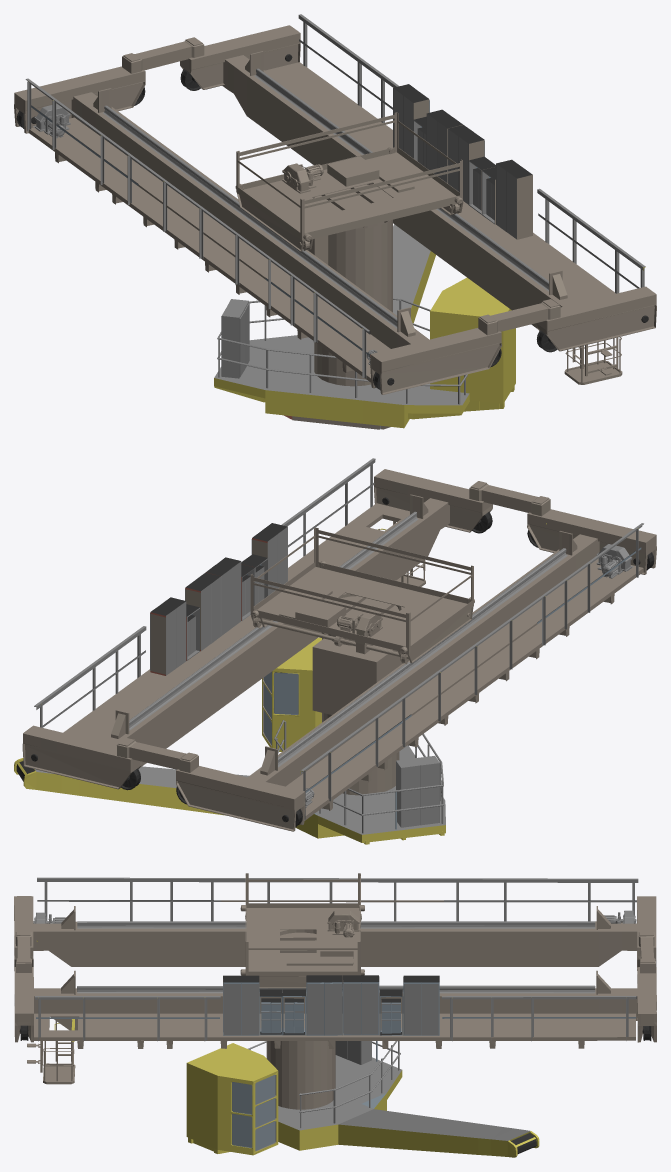
Rendered from CraneImproved.fbx.
3 views of the same model, one above another, from view 1: azimuth 30°, elevation 25°; view 2: azimuth 150°, elevation 25°; view 3: azimuth 270°, elevation 25° (orthographic). The views are drawn at different scales.
Parts seen in each view (by area): view 1: Кран перегружающий, Кабина крана, Платформа крана; view 2: Кран перегружающий, Кабина крана, Платформа крана; view 3: Кран перегружающий, Кабина крана, Платформа крана.
Boxes of the visible parts, <box> form: Кран перегружающий: <box>14,14,656,394</box>; Кабина крана: <box>214,184,515,429</box>; Платформа крана: <box>235,112,463,251</box>; Кран перегружающий: <box>22,458,656,831</box>; Кабина крана: <box>14,596,445,844</box>; Платформа крана: <box>250,527,474,664</box>; Кран перегружающий: <box>14,877,656,1084</box>; Кабина крана: <box>186,932,539,1157</box>; Платформа крана: <box>240,873,364,988</box>.
Size of the model in its own units: 8.85 by 5.58 by 15.38.
